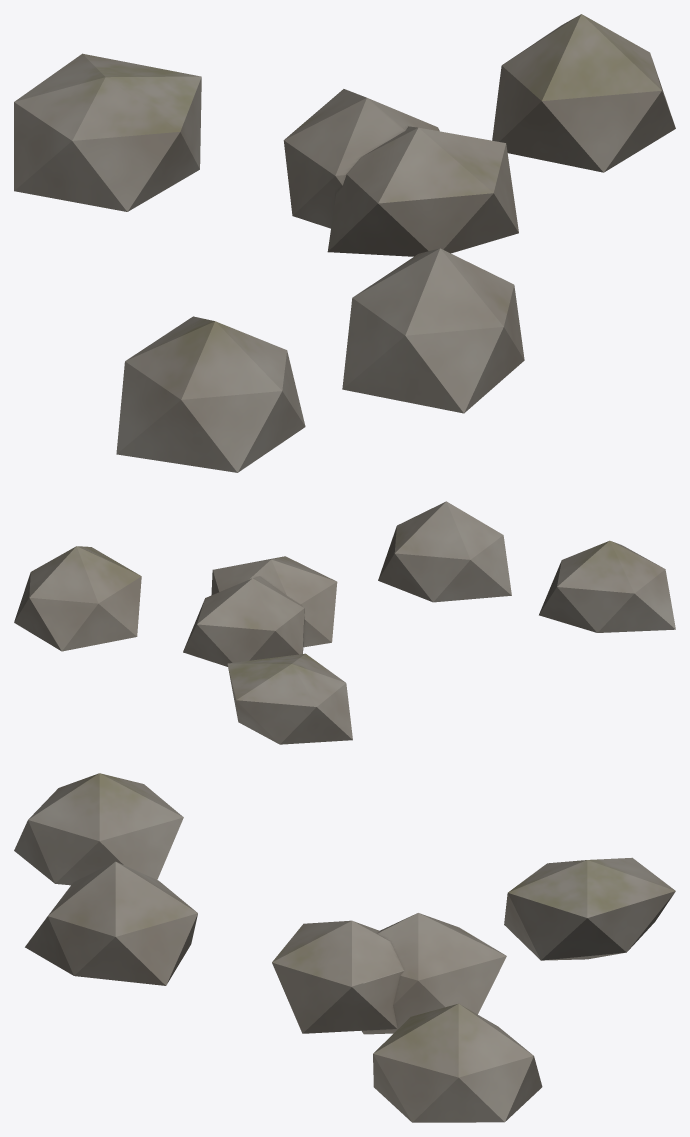
File: jazida_pedra.glb
3 renders of one model, top to bottom at view 1: azimuth 30°, elevation 25°; view 2: azimuth 150°, elevation 25°; view 3: azimuth 270°, elevation 25°, orthographic. The views are drawn at different scales.
Visible parts, largest first — view 1: jazida_pedra; view 2: jazida_pedra; view 3: jazida_pedra.
Part boxes in pixels (x1,y1,x2,y2): jazida_pedra: (14,14,675,472); jazida_pedra: (14,501,675,744); jazida_pedra: (14,773,675,1122).
Bounding box in the file's own units: 0.6404 × 0.1166 × 0.5878.
1 material, 1 textured.
